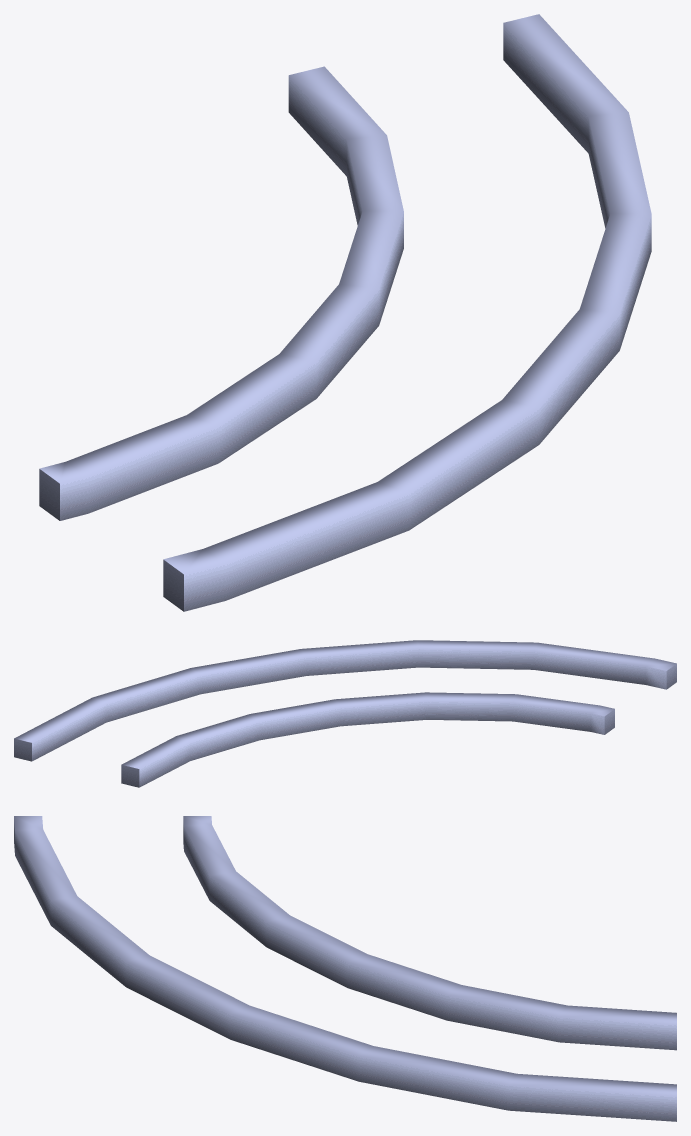
The model's file is railroad-rail-corner-small.glb.
3 renders of one model, top to bottom at view 1: azimuth 30°, elevation 25°; view 2: azimuth 150°, elevation 25°; view 3: azimuth 270°, elevation 25°, orthographic. The views are drawn at different scales.
Visible parts, largest first — view 1: railroad-rail-corner-small; view 2: railroad-rail-corner-small; view 3: railroad-rail-corner-small.
Boxes of the visible parts, bbox=[...] form: railroad-rail-corner-small: bbox=[39, 14, 651, 611]; railroad-rail-corner-small: bbox=[14, 640, 676, 787]; railroad-rail-corner-small: bbox=[14, 816, 676, 1121].
Size of the model in its own units: 2.35 by 0.1 by 2.35.
1 material, 1 textured.
